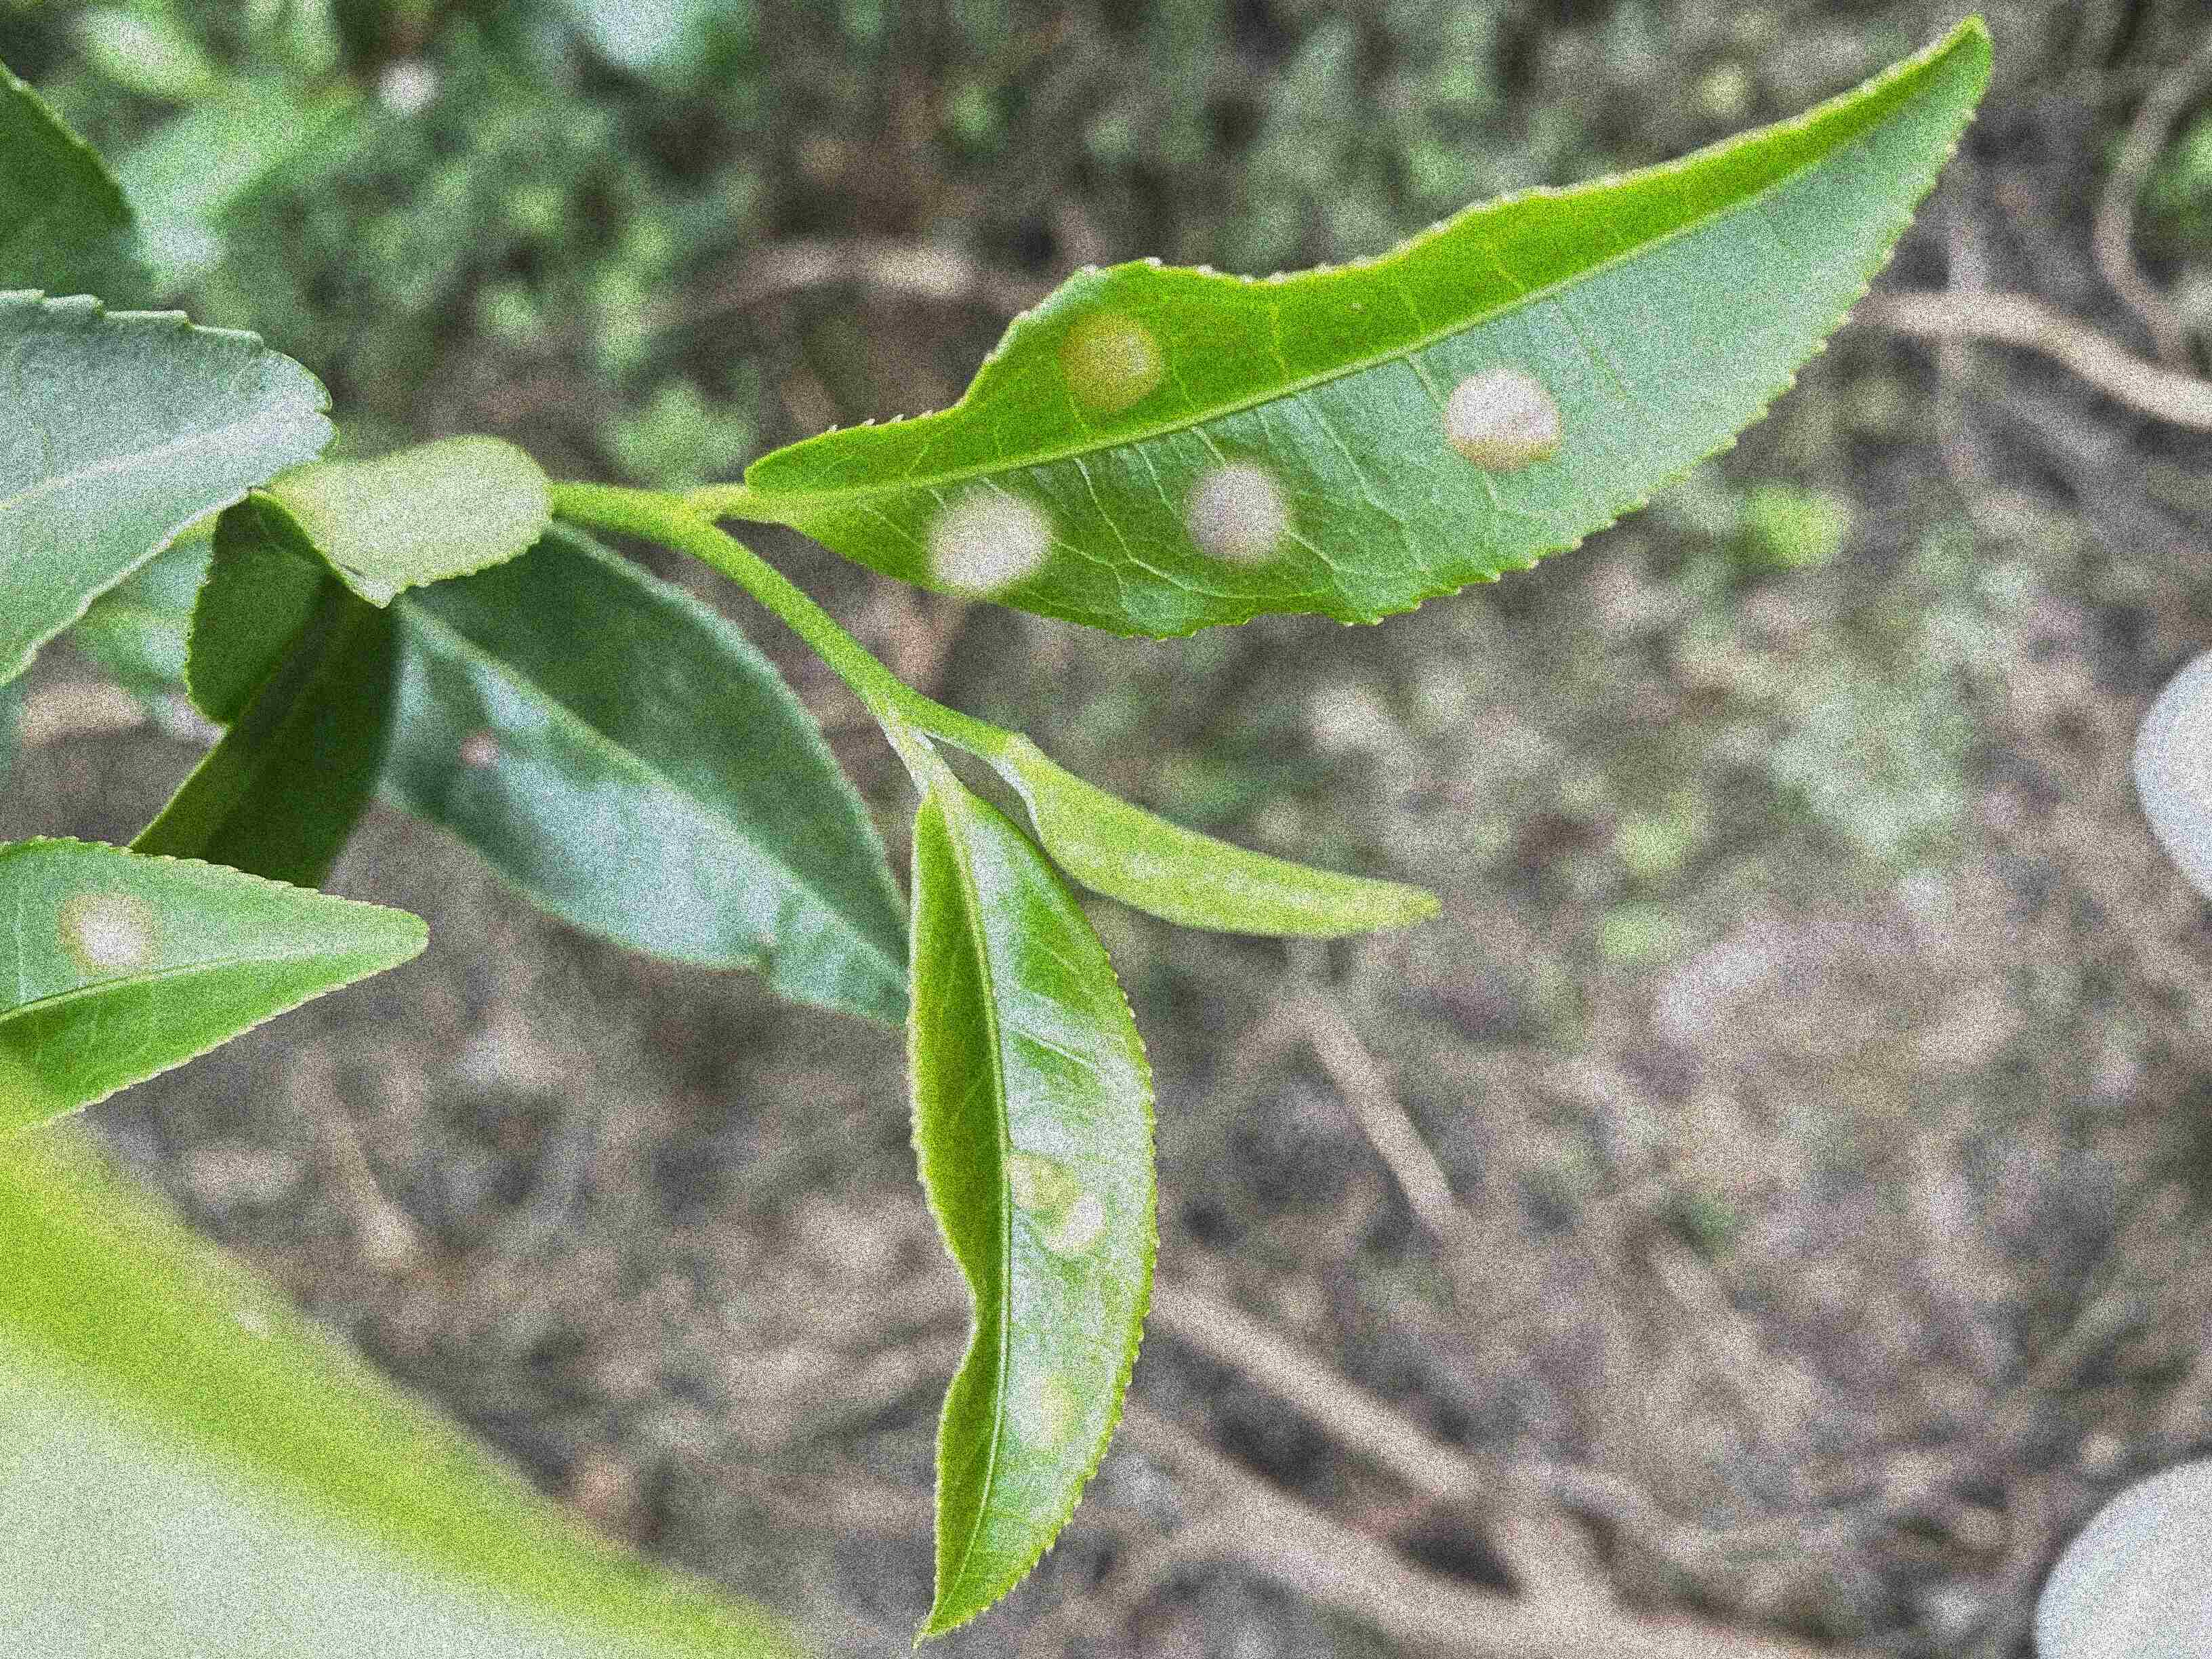chabing_high: (745, 16, 1994, 643), (900, 782, 1162, 1638)
chabing_low: (0, 831, 430, 1145)
